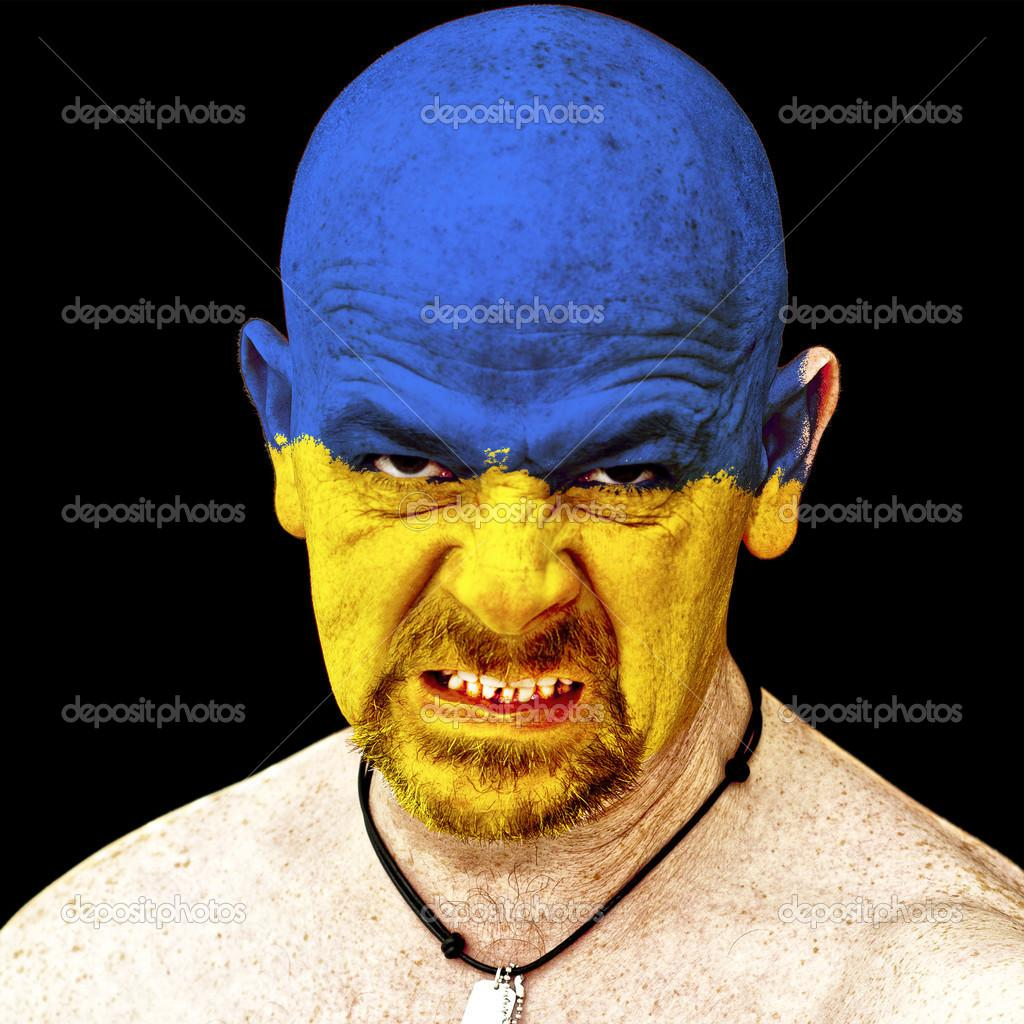face: (292, 184, 758, 836)
